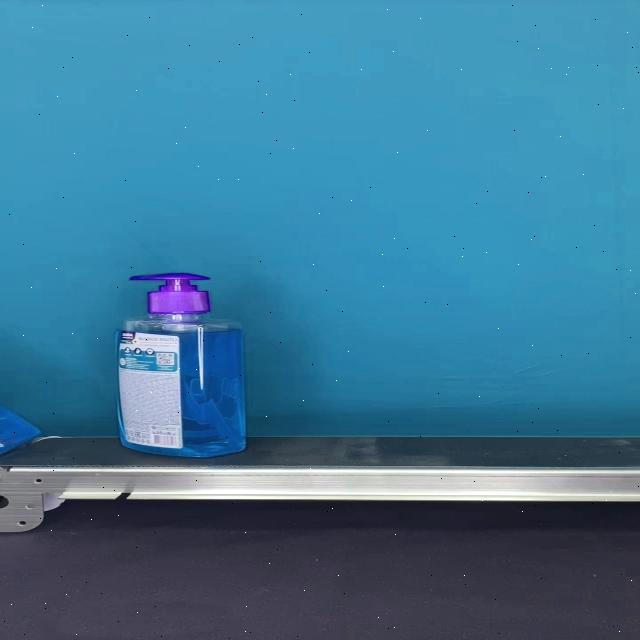Bottle: (115, 273, 248, 458)
Cap: (129, 273, 212, 315)
